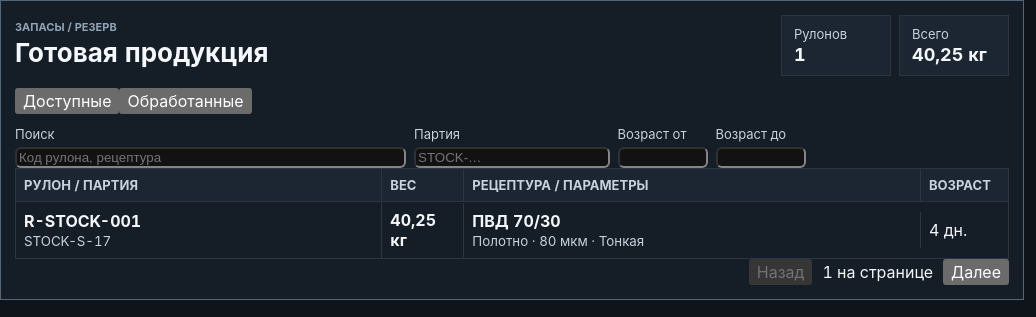
Scenario: WarehouseFinishedStockPanel › adds one used-on date column for processed reserve rolls
The width and height of the screenshot is (1036, 317).
Click the tab "Обработанные": (186, 101) x1=120 y1=88 x2=252 y2=114
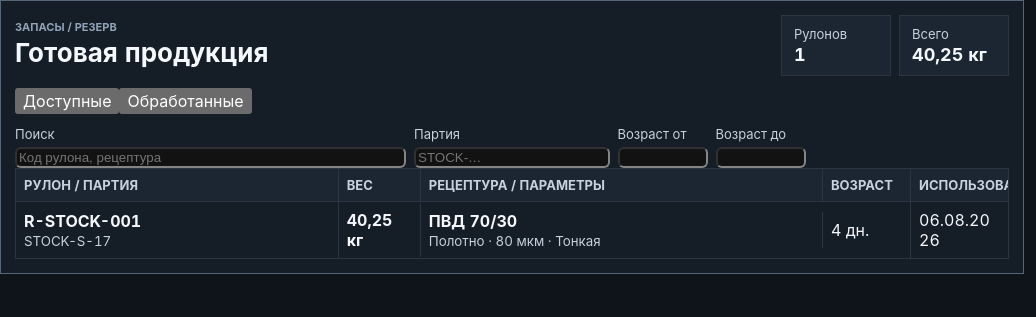
expect the text "06.08.2026" is shown: met, box x1=910 y1=202 x2=1008 y2=258
